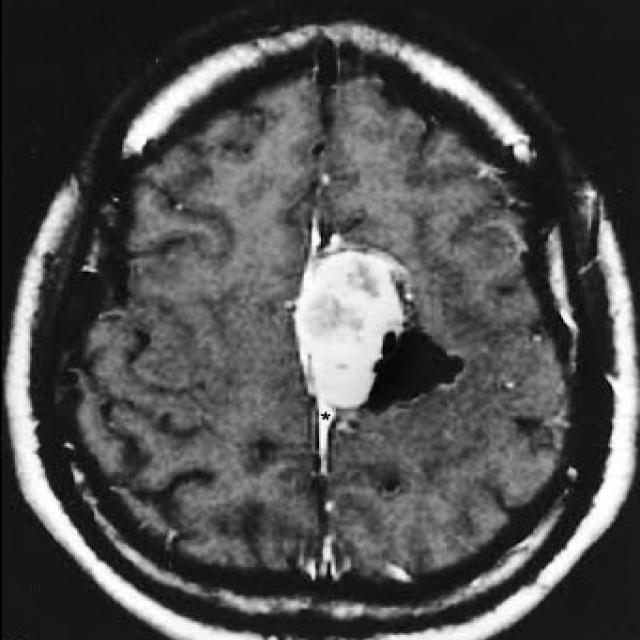brain_tumor: (294, 242, 408, 411)
